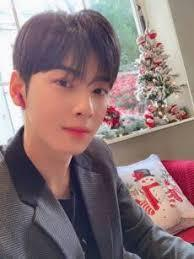earphone: (15, 92, 29, 111)
